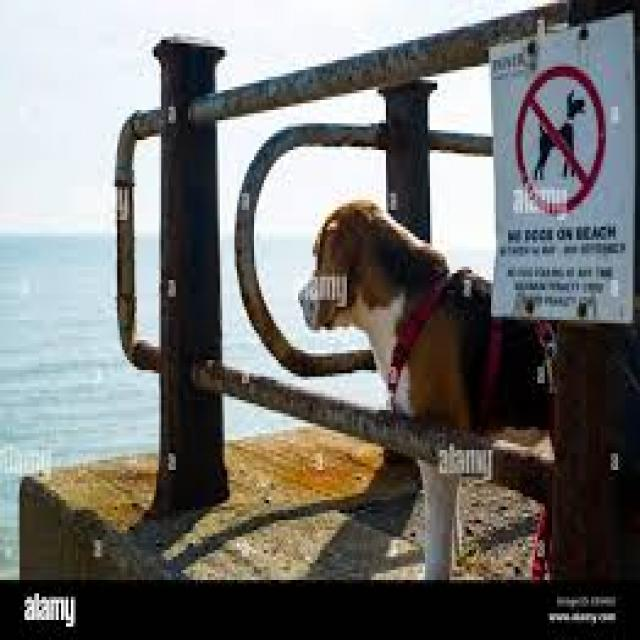Dog: (298, 200, 489, 423)
